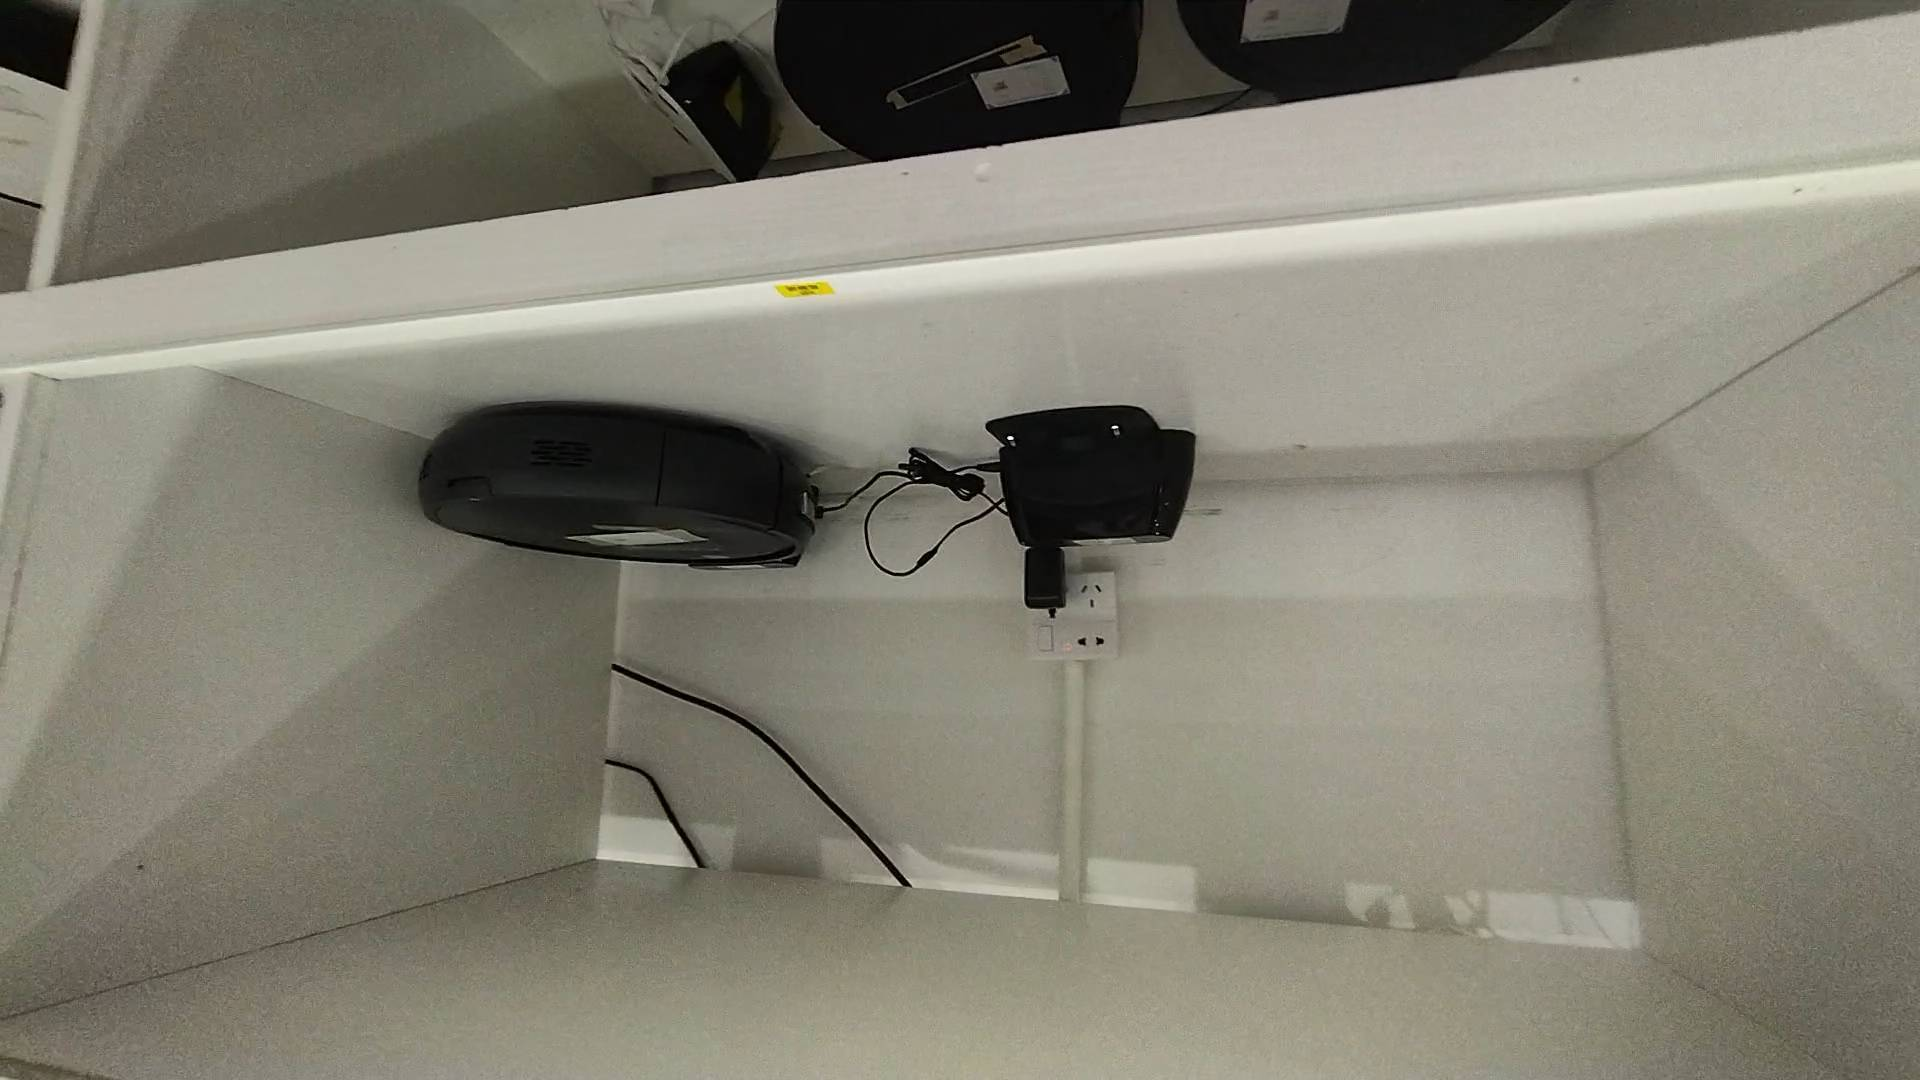recharge seat: (982, 407, 1201, 546)
